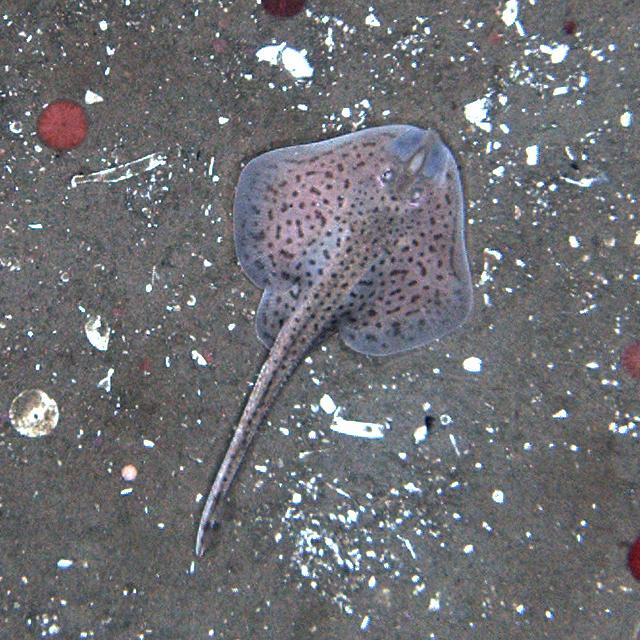skate: (199, 123, 479, 568)
